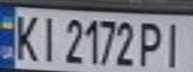1: (81, 16, 100, 65)
2: (115, 17, 139, 68), (60, 15, 84, 65)
7: (97, 16, 118, 65)
I: (160, 18, 190, 69), (36, 12, 60, 63)
K: (9, 10, 42, 63)
P: (136, 18, 169, 69)
